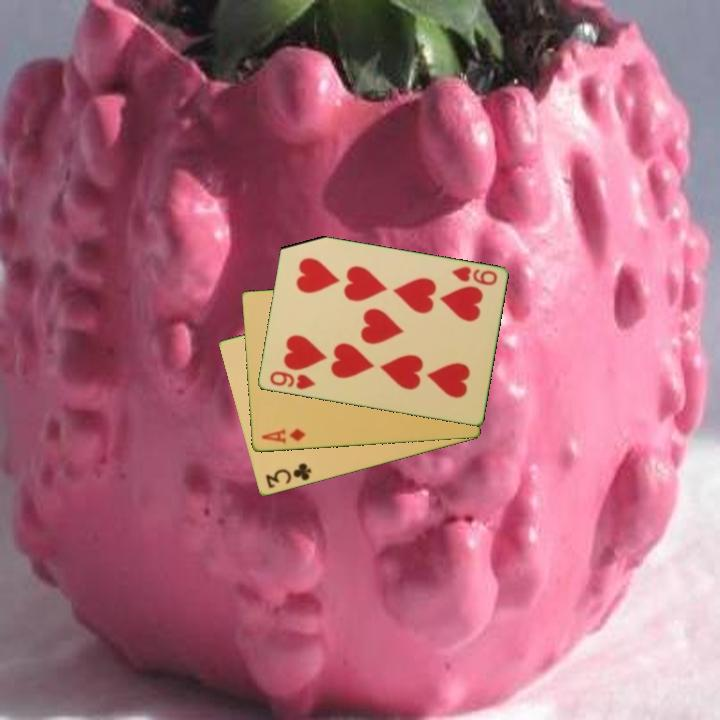3c: (262, 460, 314, 491)
9h: (447, 263, 500, 288), (266, 368, 318, 392)
Ad: (258, 425, 308, 447)
